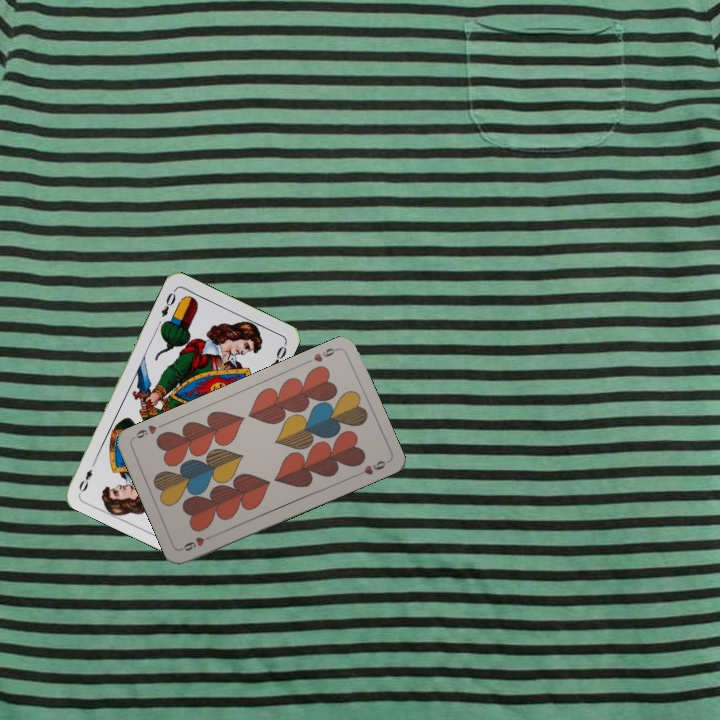EO: (157, 285, 178, 320)
H9: (178, 530, 216, 554), (302, 344, 341, 366)
